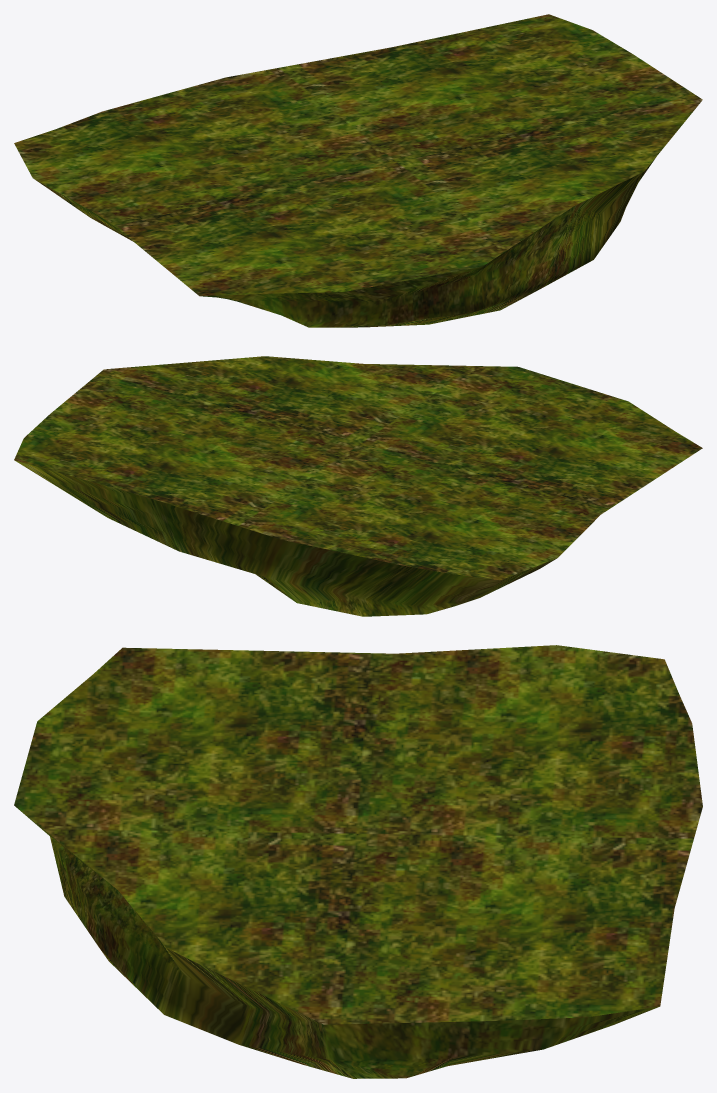
File: LVL_ROAST_MUTTON_ROCK_TILT_PLATFORM_TOP.fbx
3 views of the same model, one above another, from view 1: azimuth 30°, elevation 25°; view 2: azimuth 150°, elevation 25°; view 3: azimuth 270°, elevation 25° (orthographic). The views are drawn at different scales.
Visible parts, largest first — view 1: LVL_ROAST_MUTTON_ROCK_TILT_PLATFORM_TOP; view 2: LVL_ROAST_MUTTON_ROCK_TILT_PLATFORM_TOP; view 3: LVL_ROAST_MUTTON_ROCK_TILT_PLATFORM_TOP.
Boxes of the visible parts, x1,y1,x2,y2 form: LVL_ROAST_MUTTON_ROCK_TILT_PLATFORM_TOP: [14, 14, 702, 327]; LVL_ROAST_MUTTON_ROCK_TILT_PLATFORM_TOP: [14, 356, 702, 616]; LVL_ROAST_MUTTON_ROCK_TILT_PLATFORM_TOP: [14, 645, 702, 1078].
Bounding box in the file's own units: 69847 × 12956 × 53574.
1 material, 1 textured.
